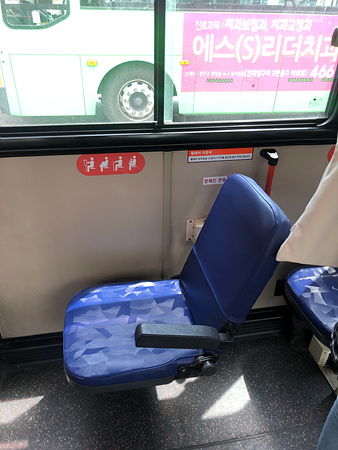seat: (68, 173, 290, 389)
